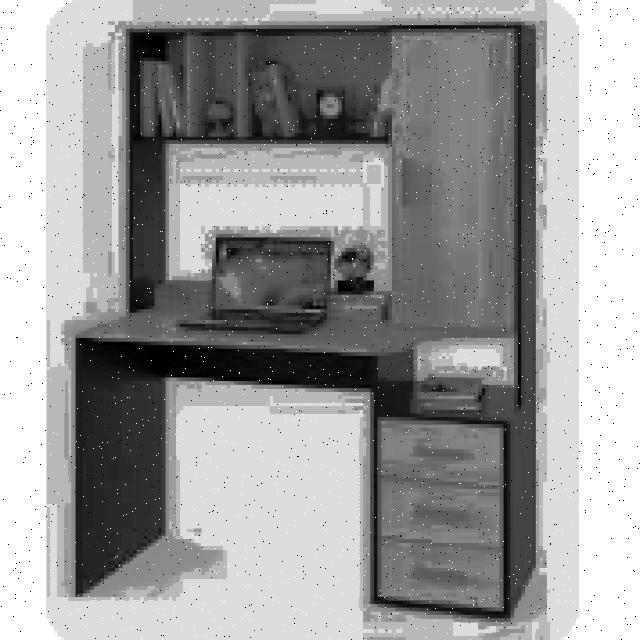table: (72, 298, 525, 615)
